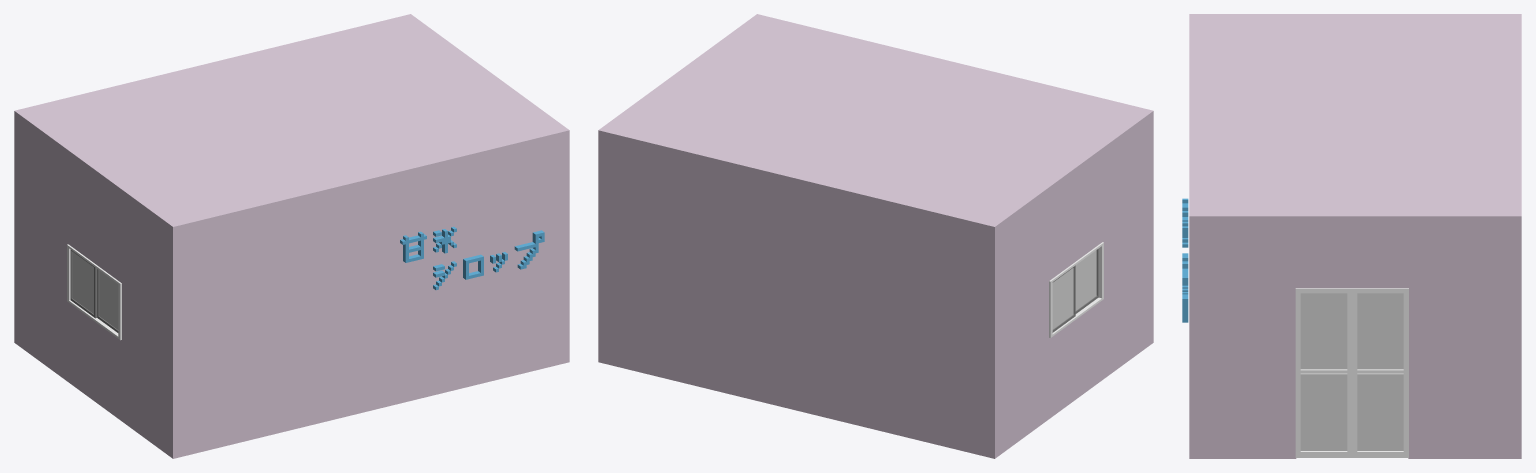
The model's file is bathroom_honenasi.fbx.
The picture shows the model from 3 angles, left to right: view 1: azimuth 30°, elevation 25°; view 2: azimuth 150°, elevation 25°; view 3: azimuth 270°, elevation 25°; orthographic projection. The views are drawn at different scales.
Parts seen in each view (by area): view 1: bathroom, nahuda, mado1, mado2; view 2: bathroom, mado1, mado2; view 3: bathroom, door, nahuda.
Part boxes in pixels (left/top/right/bottom): bathroom: left=14, top=14, right=569, bottom=458; nahuda: left=400, top=226, right=544, bottom=290; mado1: left=70, top=250, right=97, bottom=318; mado2: left=97, top=269, right=118, bottom=332; bathroom: left=598, top=14, right=1153, bottom=458; mado1: left=1052, top=265, right=1075, bottom=332; mado2: left=1075, top=249, right=1098, bottom=313; bathroom: left=1189, top=14, right=1521, bottom=458; door: left=1295, top=288, right=1408, bottom=457; nahuda: left=1182, top=198, right=1188, bottom=322.
Size of the model in its own units: 5.31 by 2.95 by 3.74.
